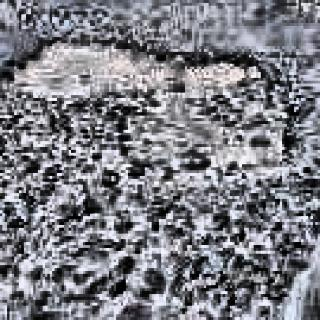alligator-crack: (10, 187, 320, 319)
pothole: (5, 28, 266, 112), (116, 114, 299, 170)
